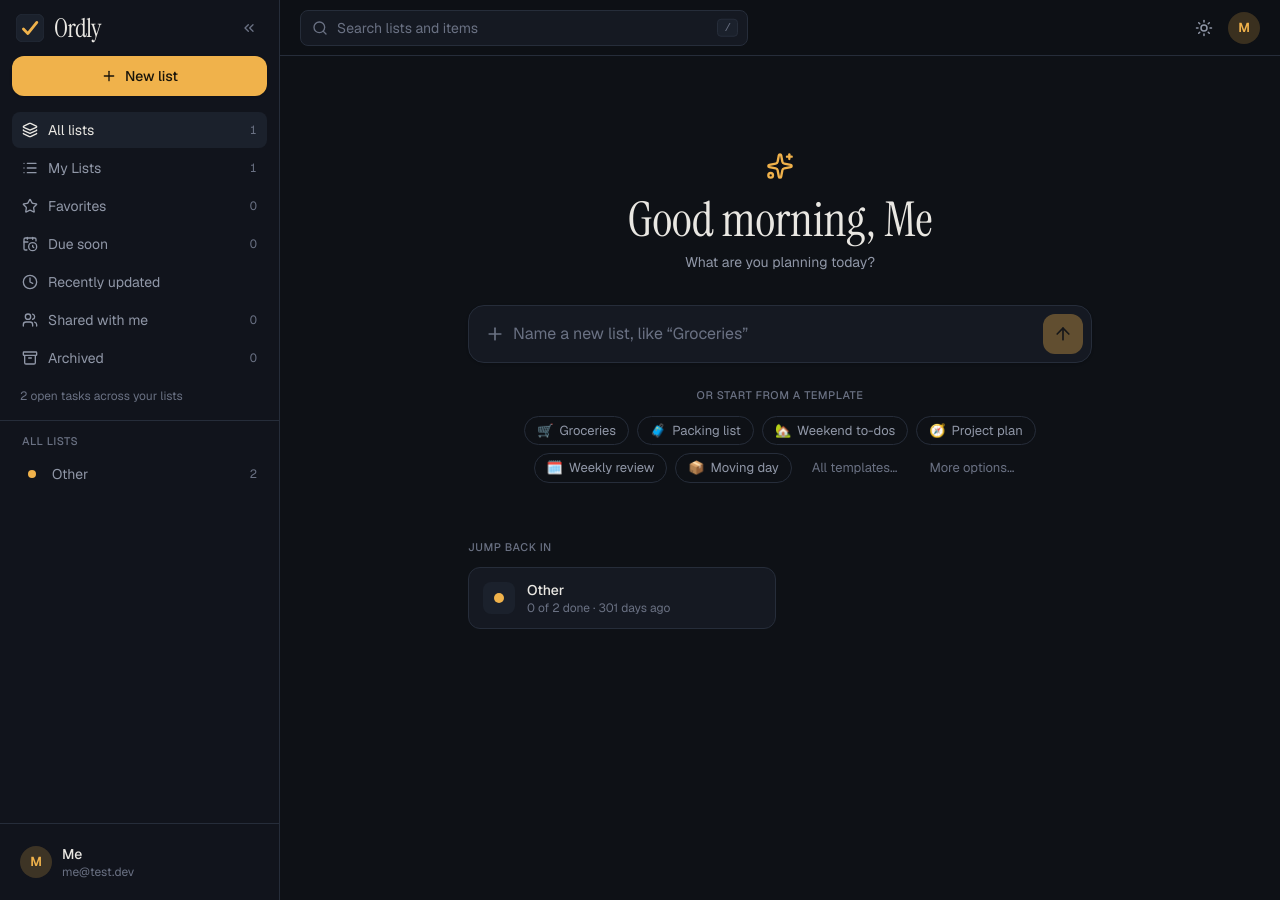
the New list dialog › shows what is set inside More options while it is folded
Expected: the field named "Name for a new list" is shown, [513,314,1035,354]
Click the button with aria-label "create new list".
click(140, 76)  # box [12,56,267,96]
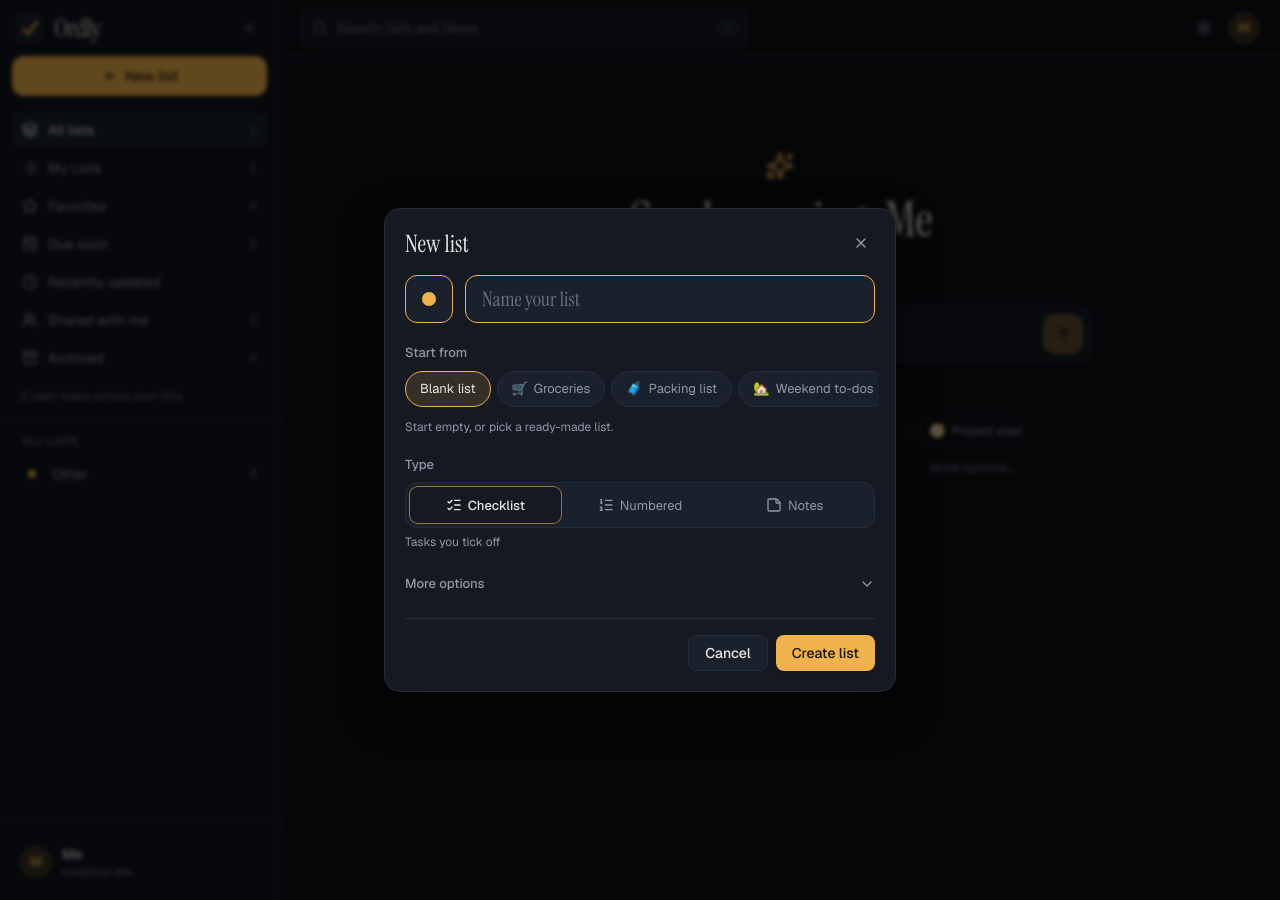
Click the button "More options".
click(445, 584)  # box [405,570,875,598]
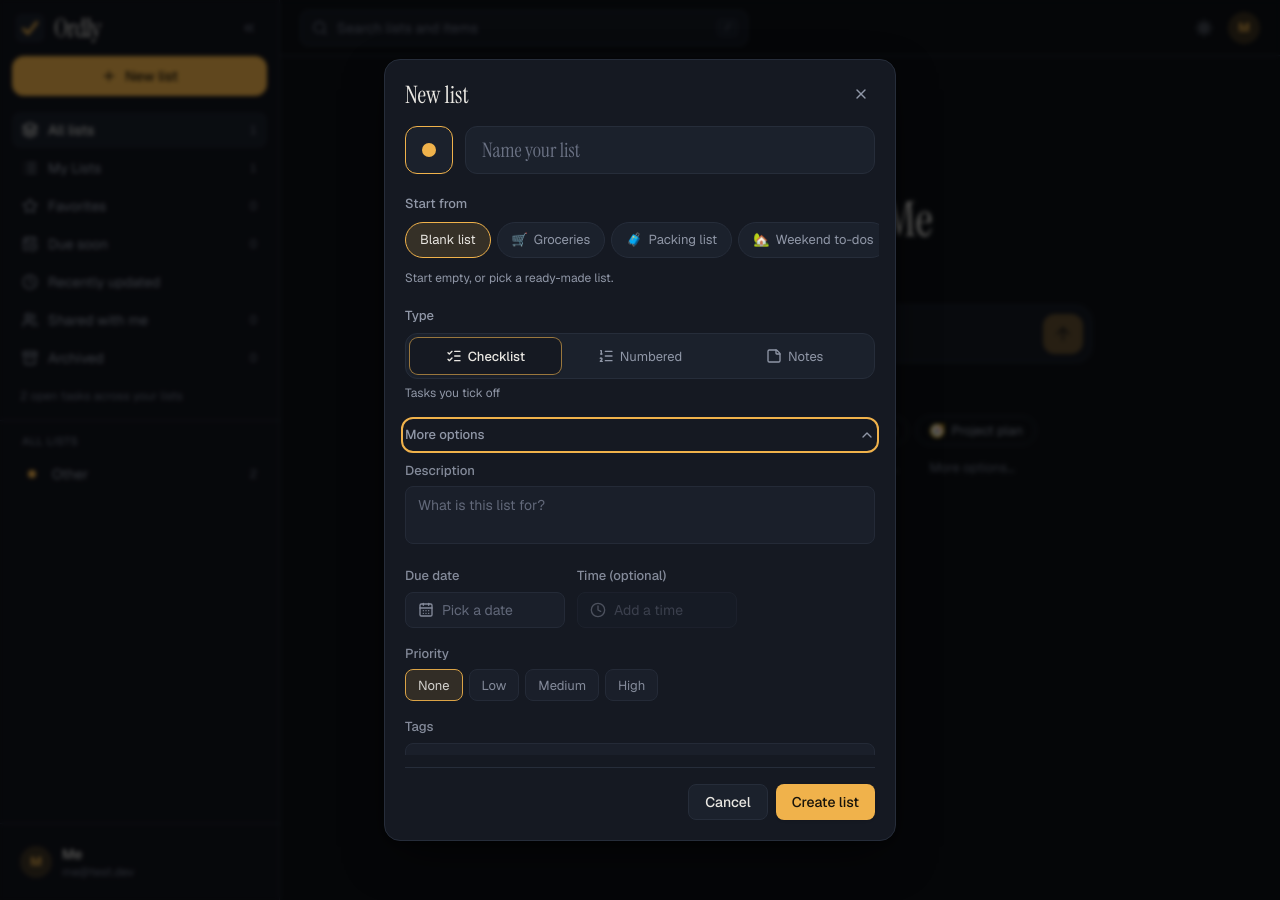
Click the button "High".
click(632, 685)  # box [605,669,658,701]
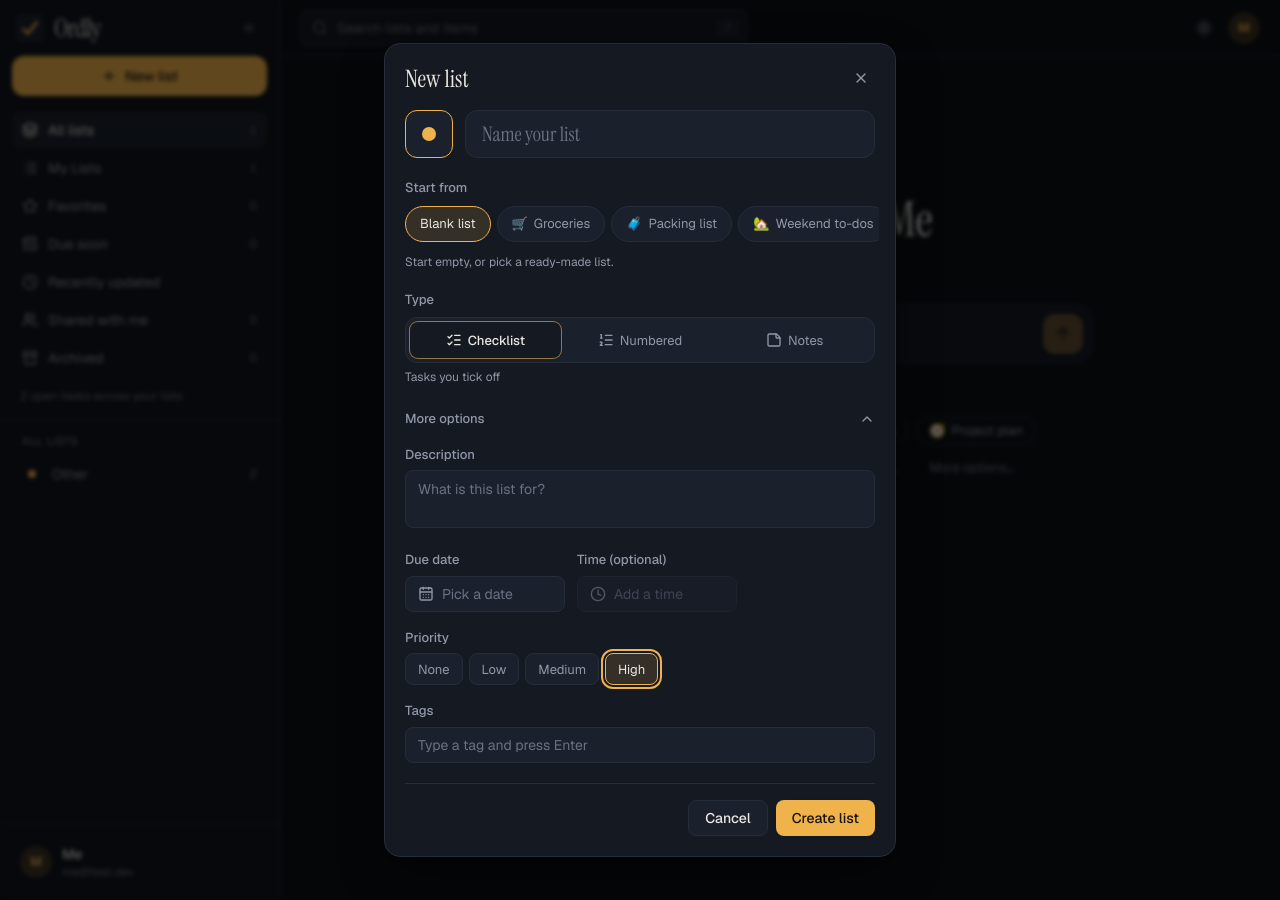
Type "trip" into the field labelled "Tags".
click(640, 745); type("trip")  # box [412,735,868,755]
Then press Enter
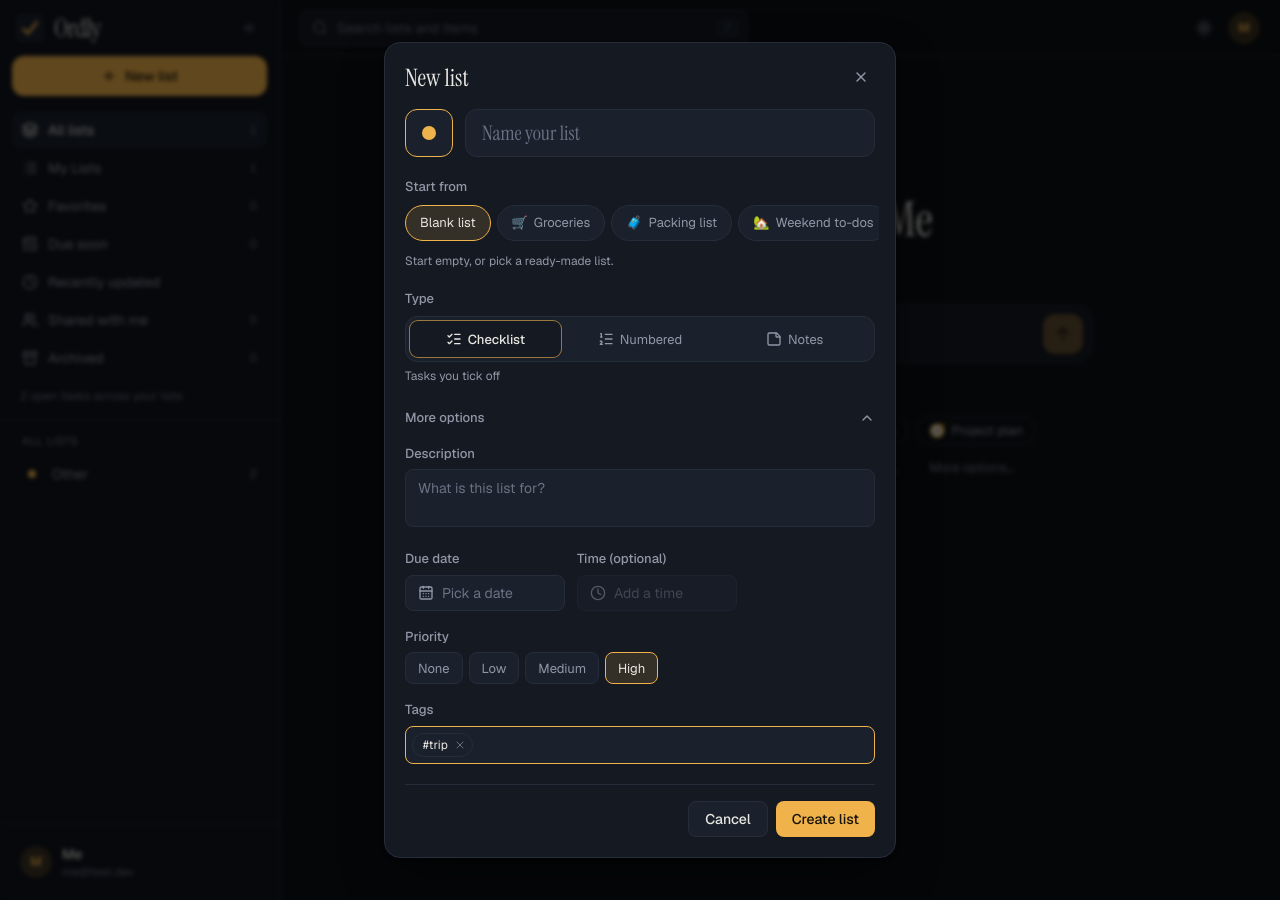
Click the button "More options".
click(445, 418)  # box [405,404,875,432]
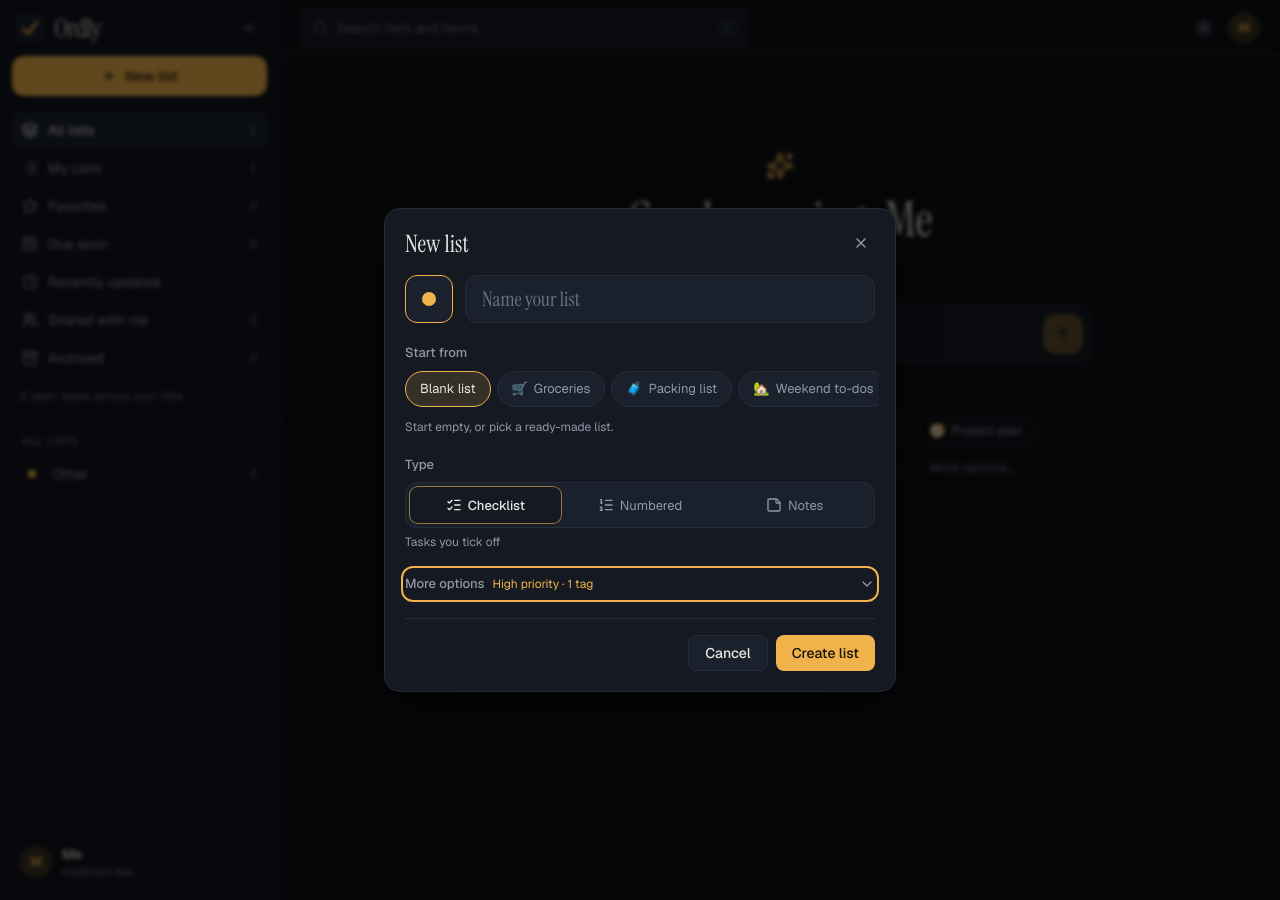
Expected: the button "More options High priority · 1 tag" is shown, [405,570,875,598]
